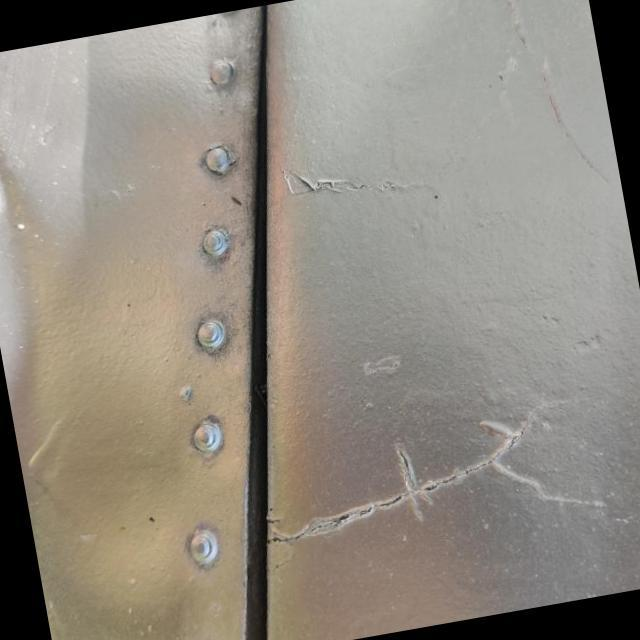Rupture: (238, 386, 596, 598)
